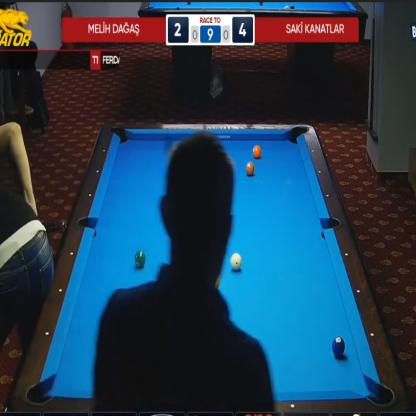Ball: (332, 336, 345, 357), (134, 249, 146, 268), (230, 252, 242, 271), (252, 145, 261, 159), (245, 162, 254, 176)
